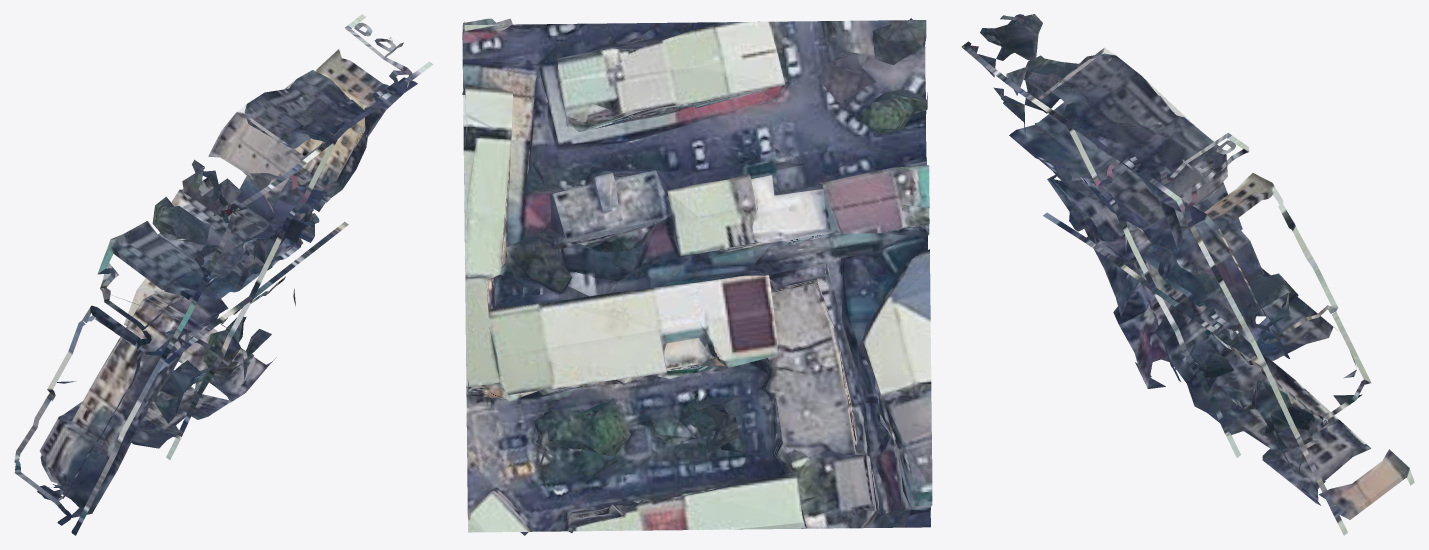
3 views of the same model, side by side, from view 1: azimuth 30°, elevation 25°; view 2: azimuth 150°, elevation 25°; view 3: azimuth 270°, elevation 25° (orthographic). The views are drawn at different scales.
Bounding box in the file's own units: 82.52 × 75.37 × 74.89.
2 materials, 2 textured.
